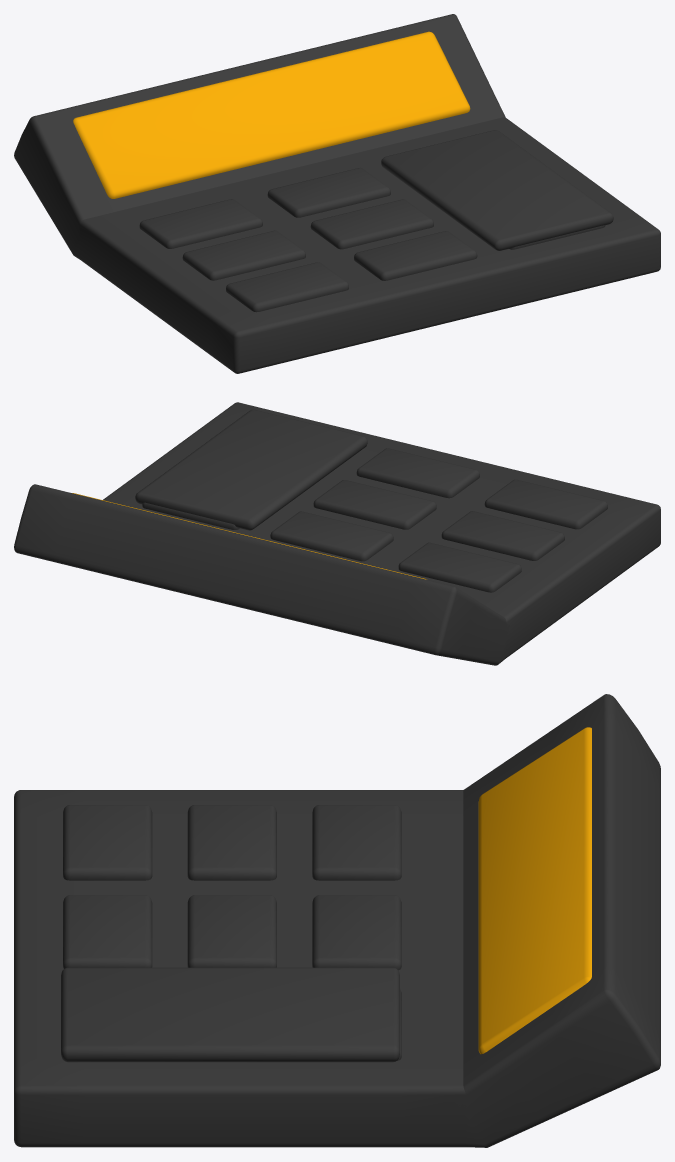
The model's file is AP_accountant.glb.
3 renders of one model, top to bottom at view 1: azimuth 30°, elevation 25°; view 2: azimuth 150°, elevation 25°; view 3: azimuth 270°, elevation 25°, orthographic. The views are drawn at different scales.
Visible parts, largest first — view 1: Cube, Cube.2, Big btn, Cube.1 3.001, Cube.1 4, Cube.1 6, Cube.1 0.001, Cube.1 1.001, Cube.1 7; view 2: Cube, Big btn, Cube.1 7, Cube.1 6, Cube.1 1.001, Cube.1 0.001, Cube.1 4, Cube.1 3.001, Cube.1 8, Cube.2; view 3: Cube, Big btn, Cube.2, Cube.1 6, Cube.1 0.001, Cube.1 3.001, Cube.1 7, Cube.1 1.001, Cube.1 4.
Boxes of the visible parts, x1,y1,x2,y2 form: Cube: (14,14,660,373); Cube.2: (73,31,470,198); Big btn: (381,130,613,250); Cube.1 3.001: (182,230,305,280); Cube.1 4: (310,199,433,249); Cube.1 6: (139,199,262,248); Cube.1 0.001: (226,262,348,312); Cube.1 1.001: (354,231,477,280); Cube.1 7: (267,168,390,217); Cube: (14,402,660,665); Big btn: (135,409,367,530); Cube.1 7: (270,511,393,561); Cube.1 6: (398,542,521,592); Cube.1 1.001: (356,448,479,498); Cube.1 0.001: (484,479,607,529); Cube.1 4: (313,480,436,529); Cube.1 3.001: (441,511,564,560); Cube.1 8: (142,502,239,529); Cube.2: (72,493,426,579); Cube: (14,694,660,1147); Big btn: (61,967,399,1062); Cube.2: (478,727,591,1054); Cube.1 6: (312,805,401,880); Cube.1 0.001: (63,805,152,880); Cube.1 3.001: (187,805,276,880); Cube.1 7: (312,895,401,970); Cube.1 1.001: (63,895,152,968); Cube.1 4: (187,895,276,967).
Size of the model in its own units: 200 by 48.84 by 182.
